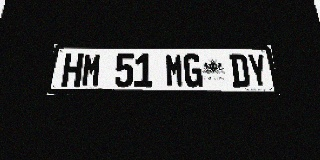1: (134, 53, 152, 87)
5: (114, 53, 134, 87)
D: (229, 54, 251, 87)
G: (183, 54, 203, 87)
H: (61, 53, 84, 87)
M: (81, 53, 102, 87), (165, 54, 184, 87)
Y: (247, 54, 269, 87)
